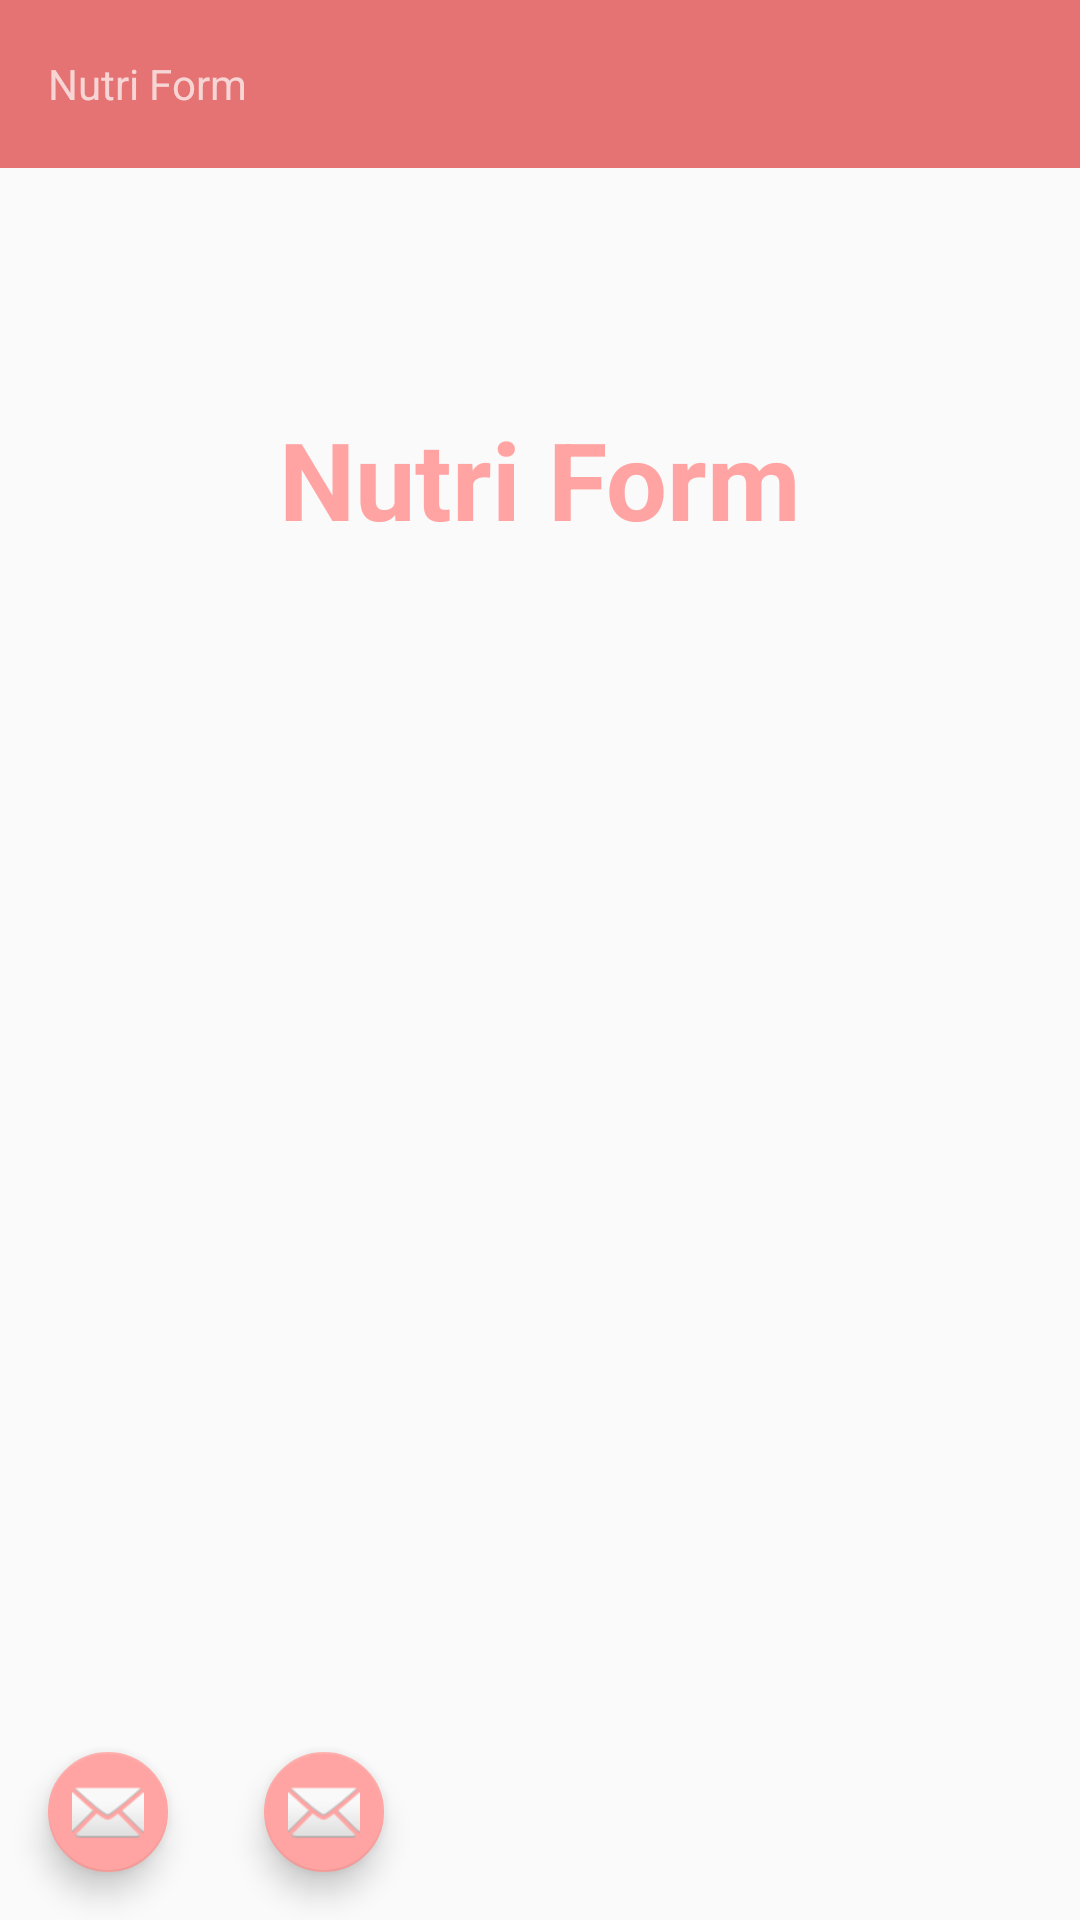

Screen size 1080px×1920px. Icon name, then its box in pixels as bbox(x1, y1, x2, y2):
email: bbox(48, 1752, 168, 1872), bbox(264, 1752, 384, 1872)
